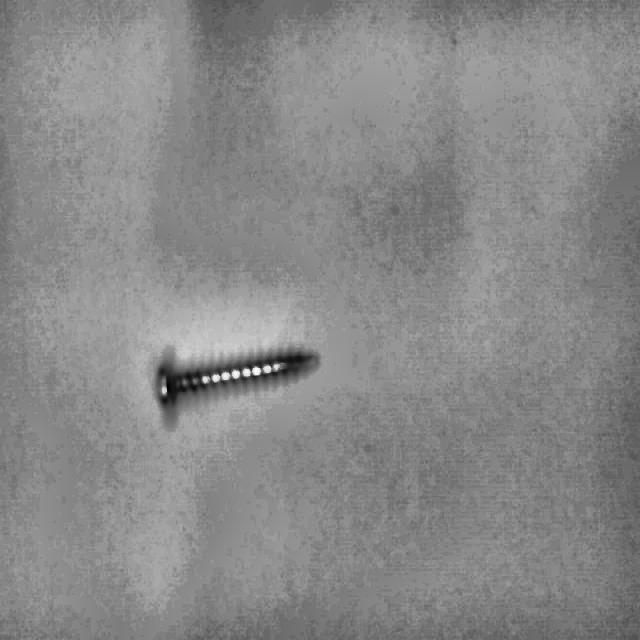Sheet metal screw: (155, 350, 317, 406)
